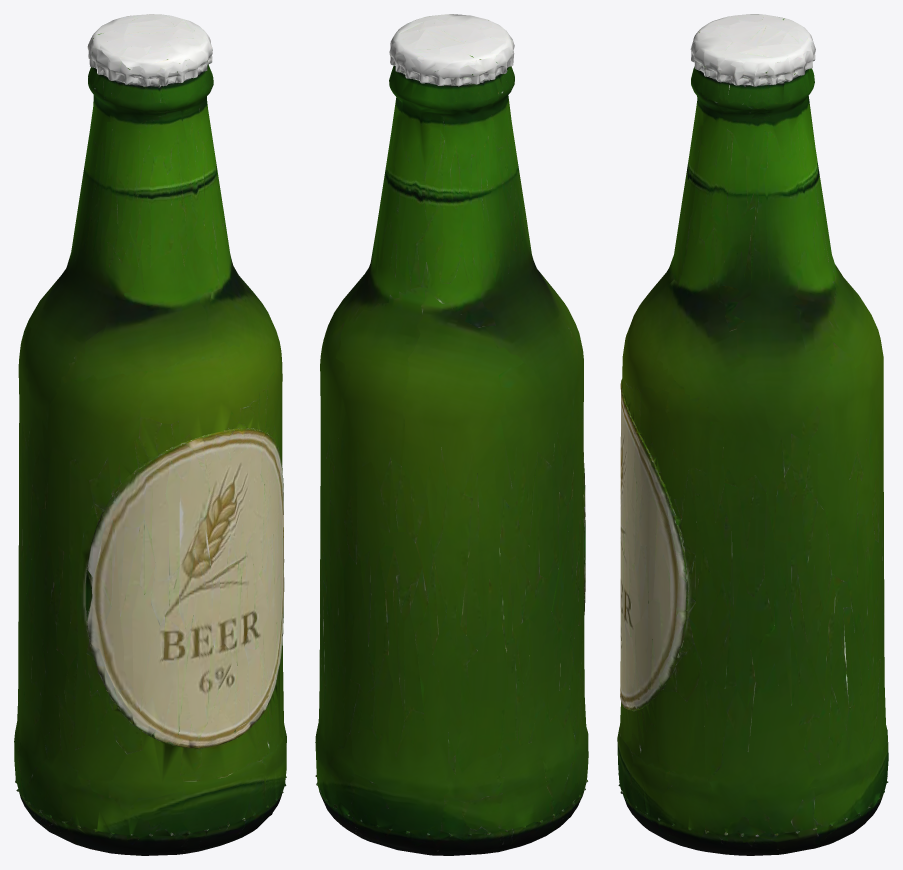
Rendered from upm_mv3pq9kwo5.glb.
The picture shows the model from 3 angles, left to right: view 1: azimuth 30°, elevation 25°; view 2: azimuth 150°, elevation 25°; view 3: azimuth 270°, elevation 25°; orthographic projection.
Bounding box in the file's own units: 0.6057 × 1.9 × 0.6032.
1 material, 1 textured.
